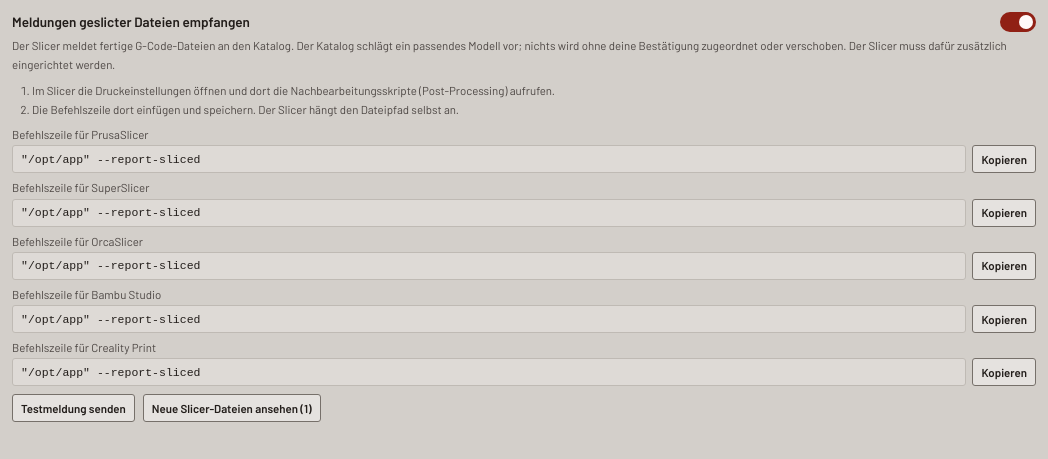
Test case: settings › copies a command line and says so; a refused clipboard selects the line instead
Step 1. Click the 3rd button "Kopieren" → {"x": 1004, "y": 266}, box [972,252,1036,280]
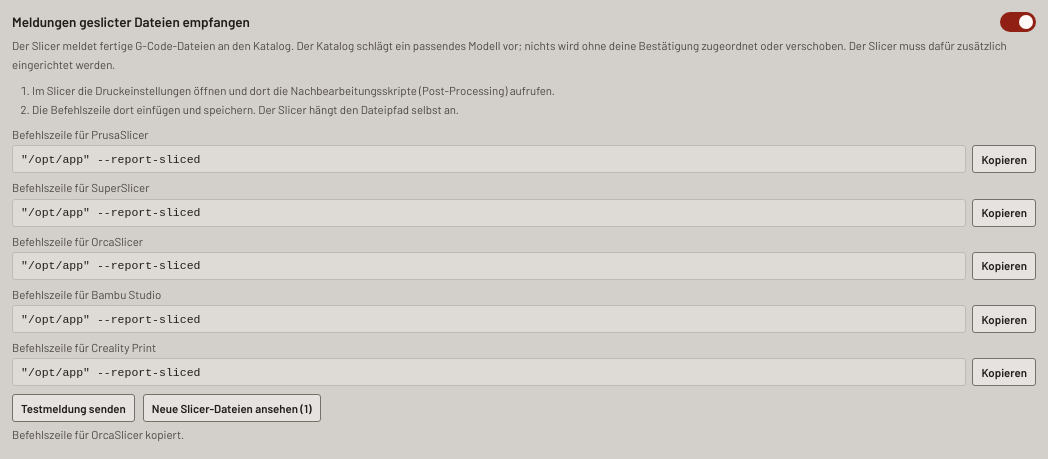
expect the text "Befehlszeile für OrcaSlicer kopiert." is shown: met, box [12,427,184,441]
Step 2. Click the 3rd button "Kopieren" → {"x": 1004, "y": 266}, box [972,252,1036,280]
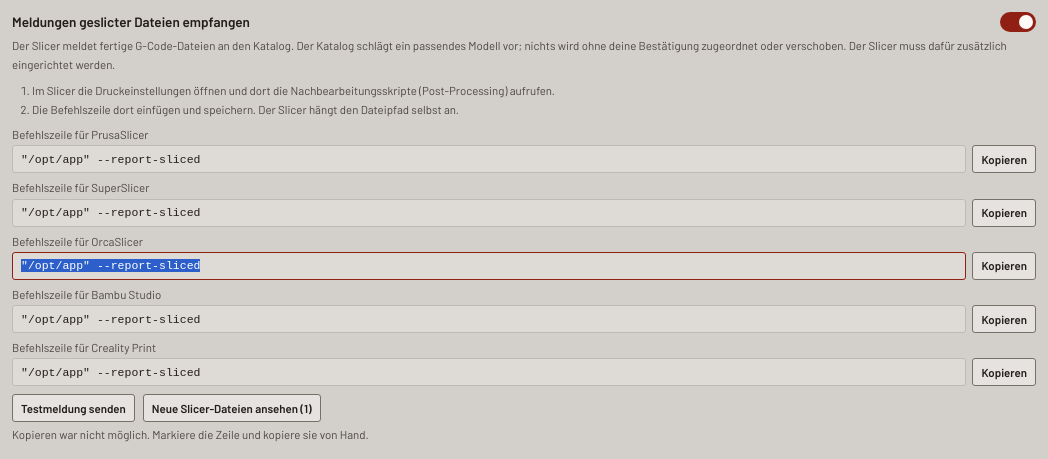
expect the text "Kopieren war nicht möglich. Markiere die Zeile und kopiere sie von Hand." is shown: met, box [12,427,369,441]
